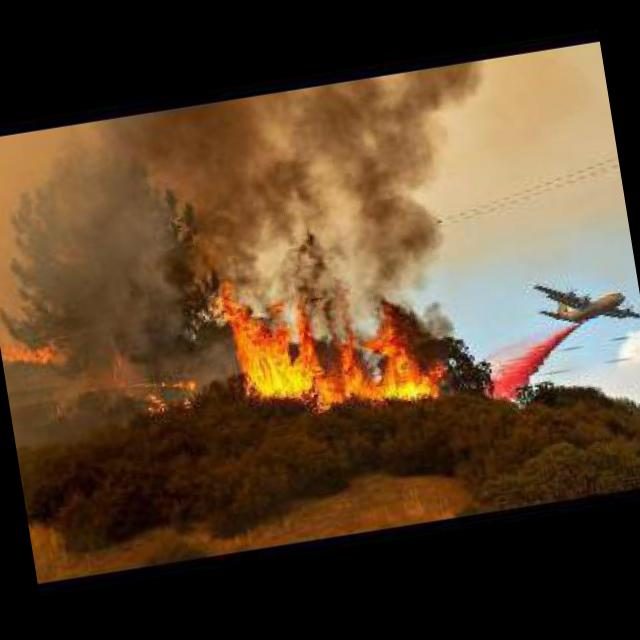fire: (210, 266, 447, 431), (108, 359, 196, 424), (0, 333, 66, 371)
smoke: (119, 64, 505, 323)
